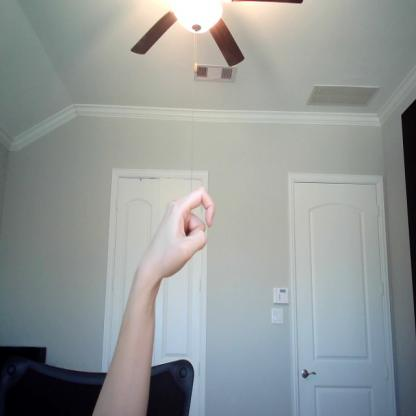X: (148, 177, 218, 279)
